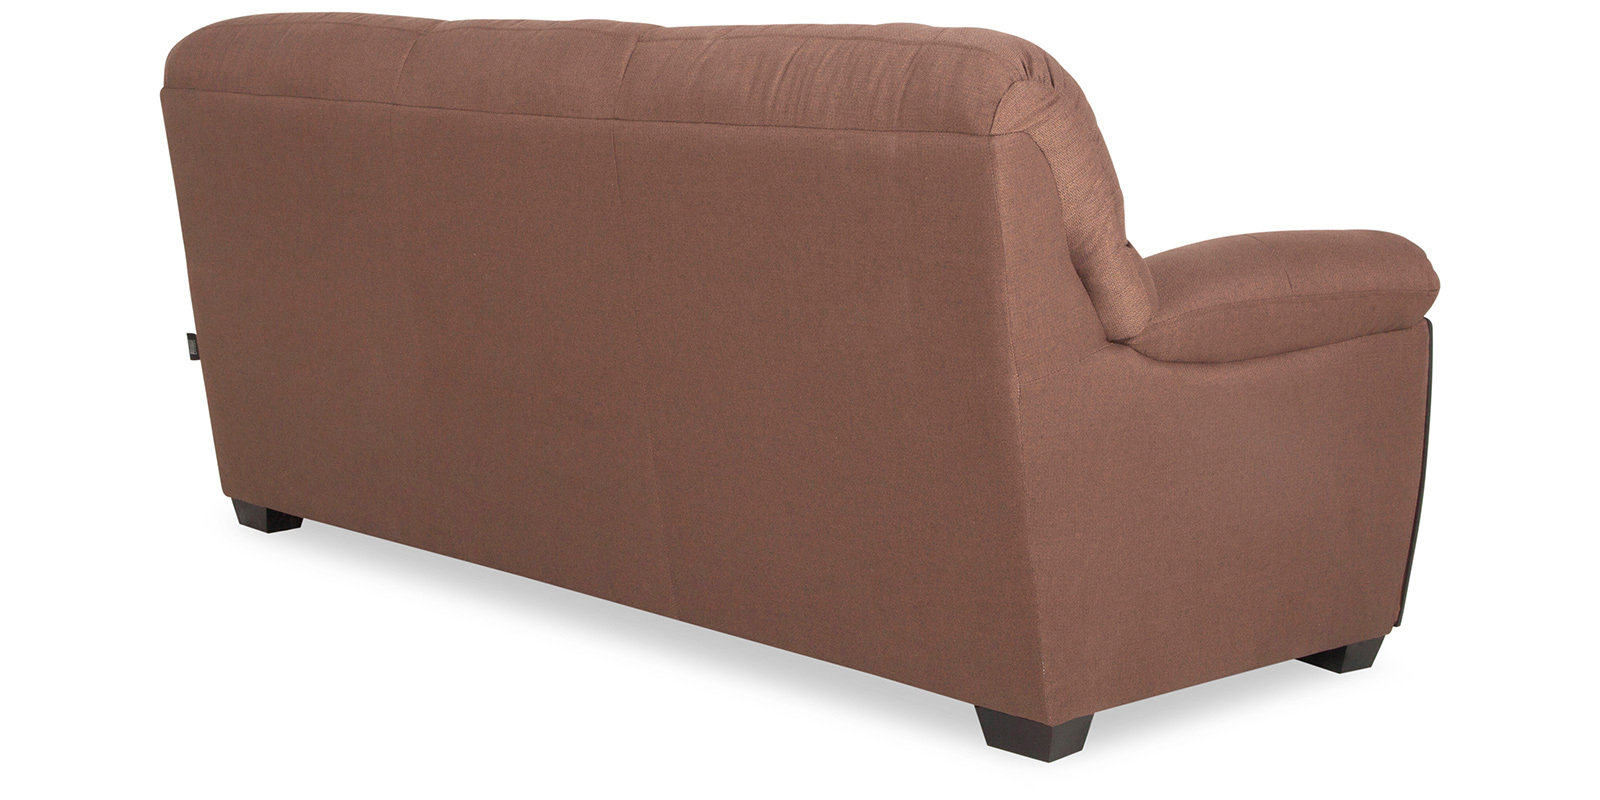Memphis Monarch Three Seater Sofa in Dark Brown Colour by Urban Living: (157, 8, 1444, 764)
